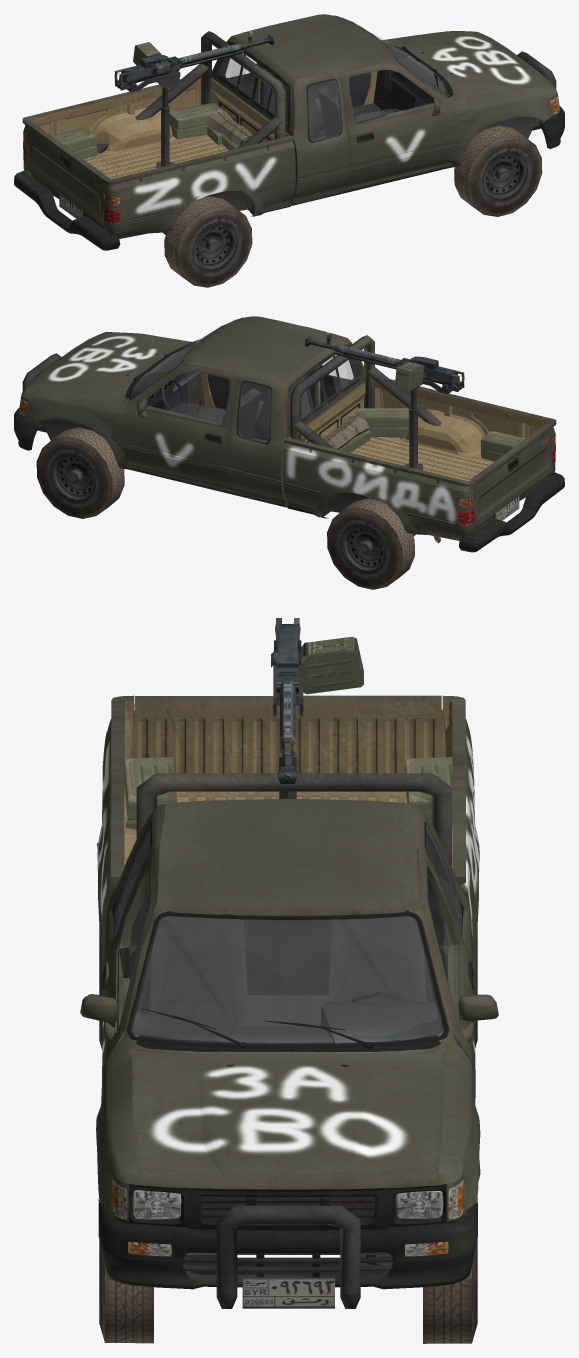
File: russian_dshk_technical.glb
3 renders of one model, top to bottom at view 1: azimuth 30°, elevation 25°; view 2: azimuth 150°, elevation 25°; view 3: azimuth 270°, elevation 25°, orthographic. The views are drawn at different scales.
Visible parts, largest first — view 1: hull, hullb, hatch2, tire09, tire10, hatch3, gear5, window, weapon, permgear, chassis, wheel (+8 smaller); view 2: hull, hullb, hatch, tire06, tire08, hatch3, window, gear5, permgear, weapon, chassis, wheel2 (+8 smaller); view 3: hull, hullb, window, object04_pickup-interior_7_0, gear5, gear, hatch, hatch2, lens, tire06, tire09, permgear (+5 smaller).
Boxes of the visible parts, <box> form: hull: <box>14,14,564,250</box>; hullb: <box>29,44,458,220</box>; hatch2: <box>340,62,458,189</box>; tire09: <box>454,125,542,216</box>; tire10: <box>164,196,252,287</box>; hatch3: <box>26,121,108,225</box>; gear5: <box>135,31,285,148</box>; window: <box>219,32,445,140</box>; weapon: <box>114,31,274,90</box>; permgear: <box>52,103,224,158</box>; chassis: <box>96,62,541,234</box>; wheel: <box>486,155,524,197</box>; hull: <box>14,316,564,552</box>; hullb: <box>122,345,549,522</box>; hatch: <box>120,364,238,491</box>; tire06: <box>36,427,124,518</box>; tire08: <box>327,498,414,589</box>; hatch3: <box>471,423,552,527</box>; window: <box>138,334,359,442</box>; gear5: <box>290,335,441,448</box>; permgear: <box>356,408,525,461</box>; weapon: <box>305,332,464,391</box>; chassis: <box>37,376,461,543</box>; wheel2: <box>54,457,92,499</box>; hull: <box>96,695,480,1289</box>; hullb: <box>114,700,461,1043</box>; window: <box>118,827,458,1042</box>; object04_pickup-interior_7_0: <box>133,701,442,773</box>; gear5: <box>136,773,451,865</box>; gear: <box>216,1205,360,1308</box>; hatch: <box>416,848,498,1097</box>; hatch2: <box>80,848,159,1088</box>; lens: <box>103,733,448,1256</box>; tire06: <box>423,1198,477,1343</box>; tire09: <box>99,1240,153,1343</box>; permgear: <box>124,757,452,829</box>.
Size of the model in its own units: 5.17 by 2.06 by 1.94.
Materials: 11 (11 with a texture image).
